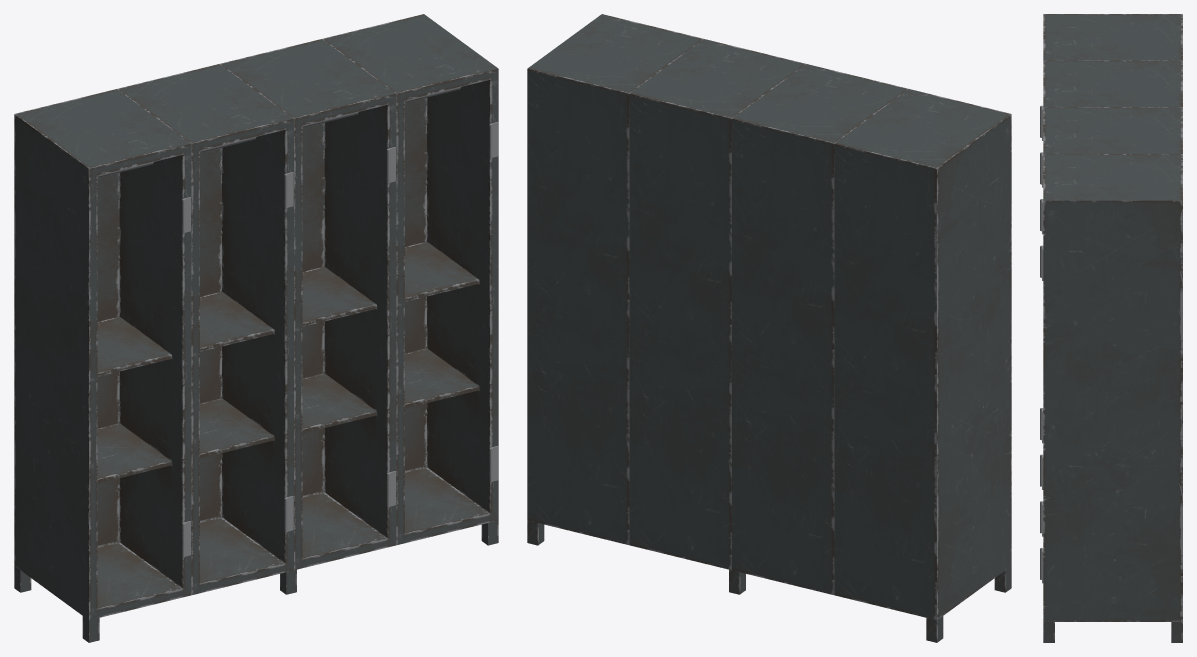
Rendered from SM_Locker_02_C.fbx.
3 views of the same model, side by side, from view 1: azimuth 30°, elevation 25°; view 2: azimuth 150°, elevation 25°; view 3: azimuth 270°, elevation 25° (orthographic). The views are drawn at different scales.
Visible parts, largest first — view 1: SM_Locker_02_C; view 2: SM_Locker_02_C; view 3: SM_Locker_02_C.
Boxes of the visible parts, <box> form: SM_Locker_02_C: <box>14,14,498,642</box>; SM_Locker_02_C: <box>527,14,1011,642</box>; SM_Locker_02_C: <box>1040,14,1182,642</box>.
Size of the model in its own units: 209 by 67.55 by 231.
1 material, 1 textured.
